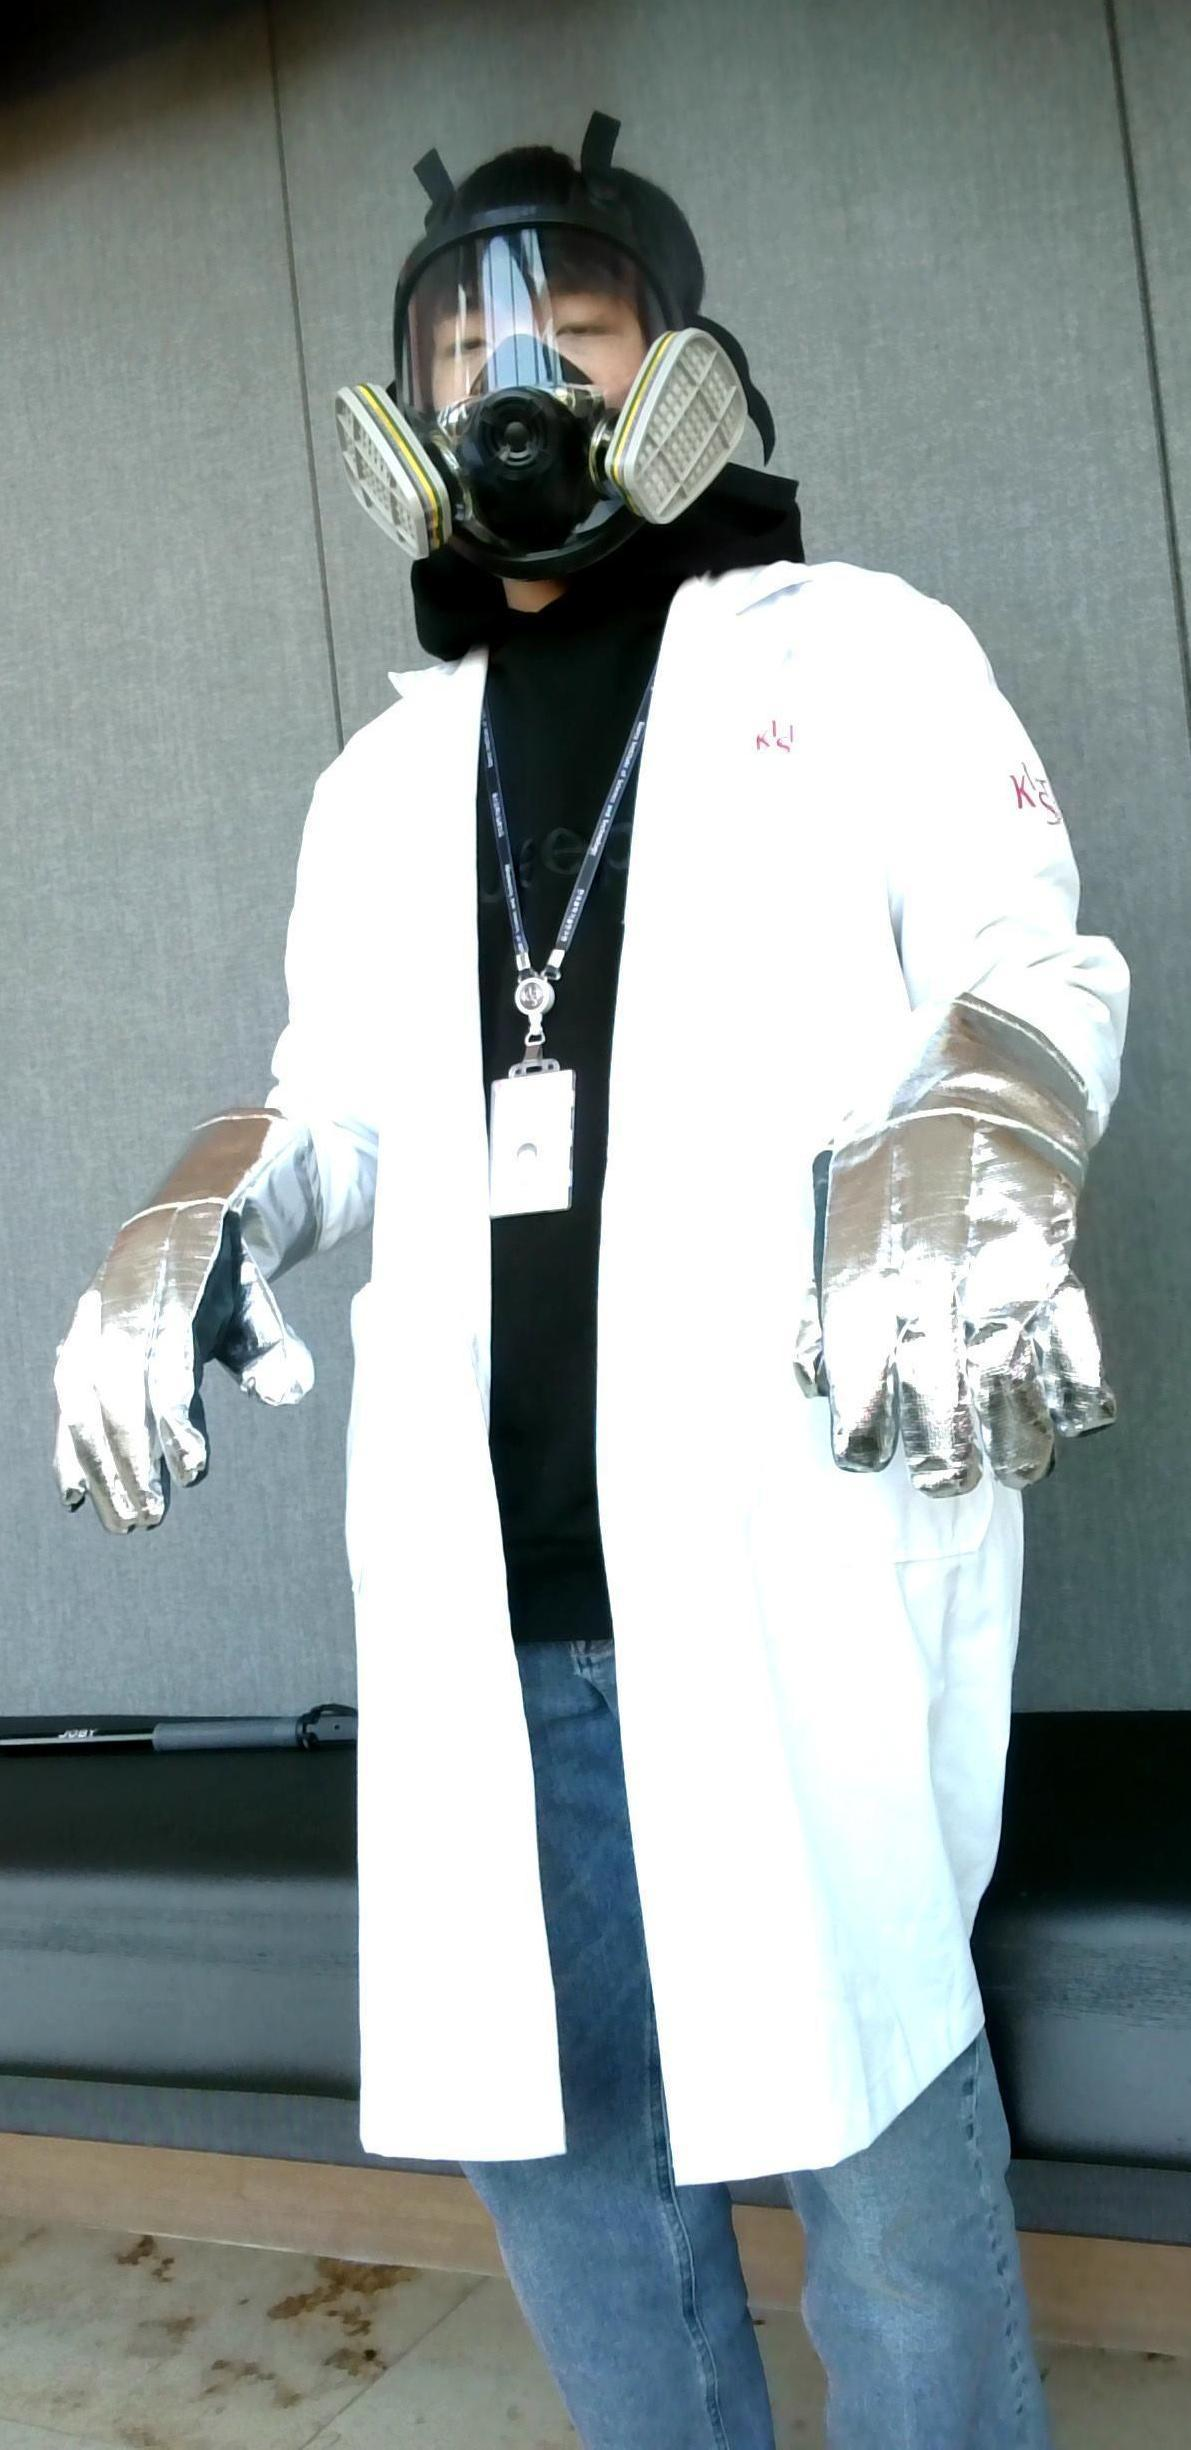lab_coat: (274, 602, 841, 2142)
